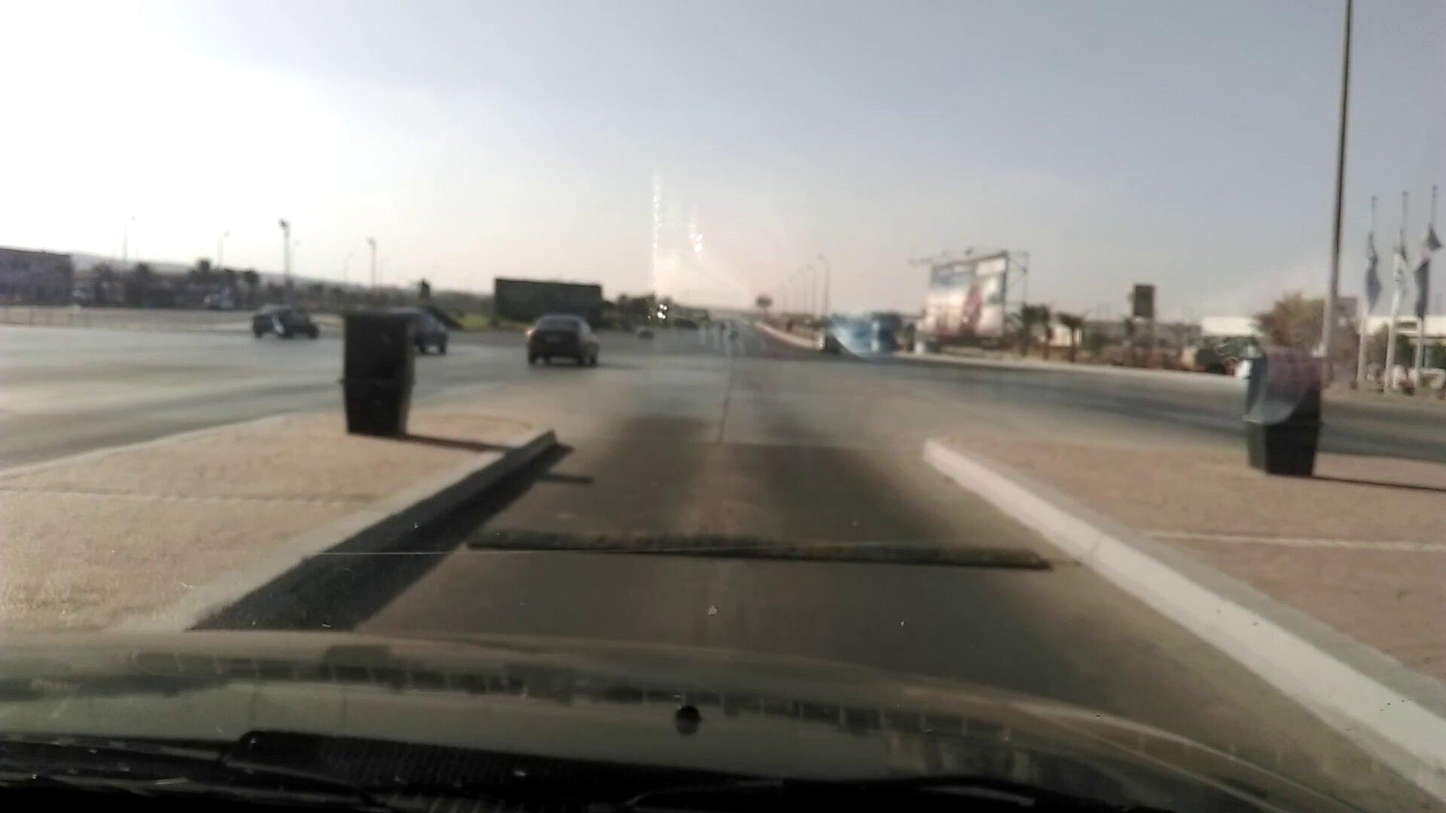Bump: (459, 516, 1083, 600)
